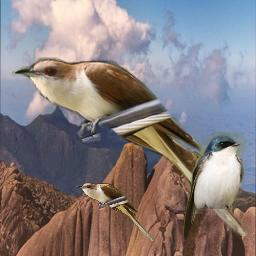Cuckoo: (12, 57, 252, 241), (76, 182, 155, 243)
Swallow: (183, 131, 246, 241)
